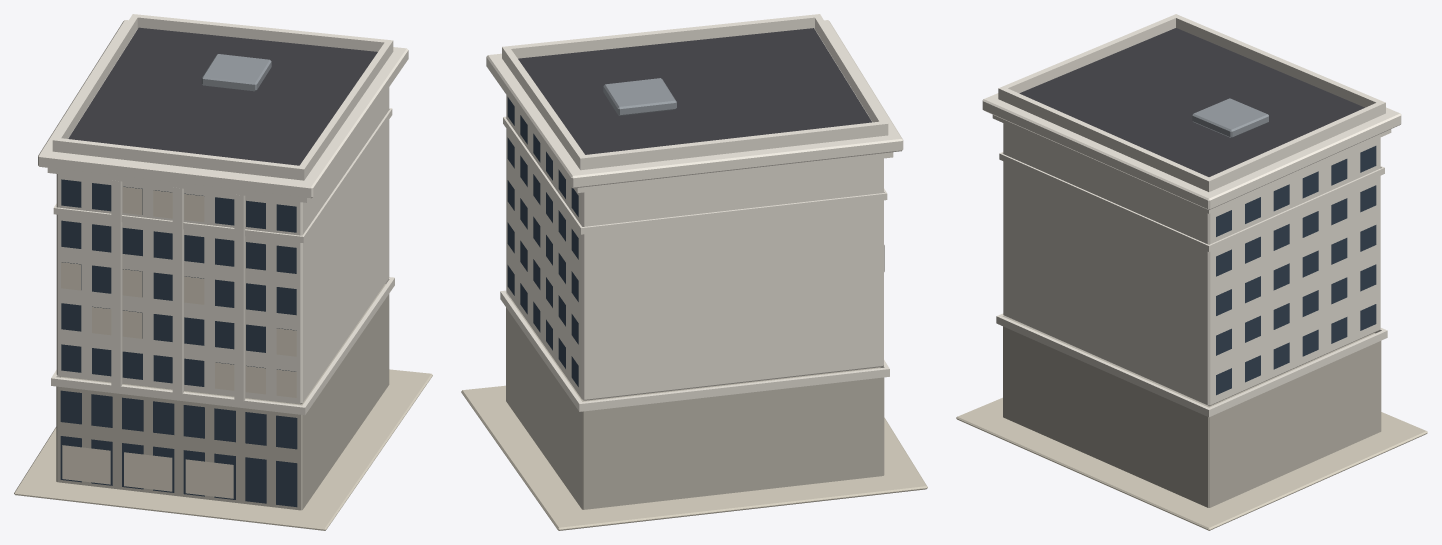
The model's file is 121-2nd-street.glb.
3 renders of one model, left to right at view 1: azimuth 30°, elevation 25°; view 2: azimuth 150°, elevation 25°; view 3: azimuth 270°, elevation 25°, orthographic. The views are drawn at different scales.
Visible parts, largest first — view 1: 121-2nd-street_body, 121-2nd-street_night_glow; view 2: 121-2nd-street_body; view 3: 121-2nd-street_body.
Boxes of the visible parts, x1=… form: 121-2nd-street_body: x1=14, y1=14, x2=432, y2=530; 121-2nd-street_night_glow: x1=61, y1=187, x2=296, y2=498; 121-2nd-street_body: x1=461, y1=14, x2=927, y2=530; 121-2nd-street_body: x1=956, y1=14, x2=1427, y2=530.
Size of the model in its own units: 36.21 by 27.5 by 35.42.
